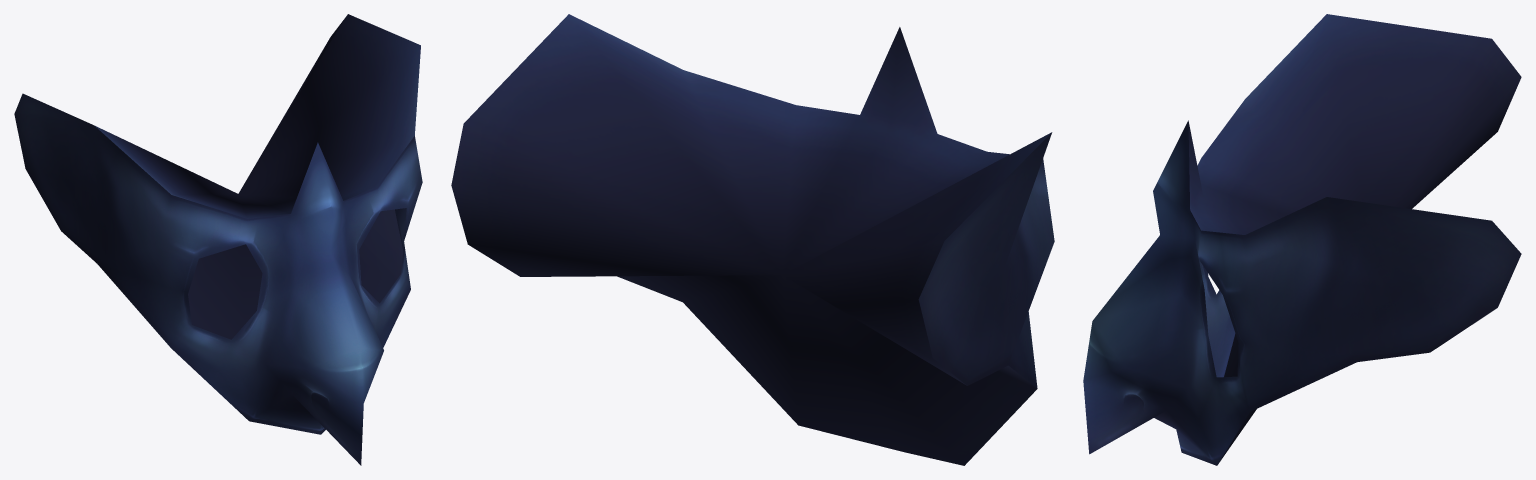
3 renders of one model, left to right at view 1: azimuth 30°, elevation 25°; view 2: azimuth 150°, elevation 25°; view 3: azimuth 270°, elevation 25°, orthographic. The views are drawn at different scales.
Visible parts, largest first — view 1: 3_A_10; view 2: 3_A_10; view 3: 3_A_10.
Boxes of the visible parts, x1=… form: 3_A_10: x1=14, y1=14, x2=422, y2=465; 3_A_10: x1=451, y1=14, x2=1054, y2=465; 3_A_10: x1=1083, y1=14, x2=1521, y2=465.
Size of the model in its own units: 37.88 by 38.36 by 33.72.
